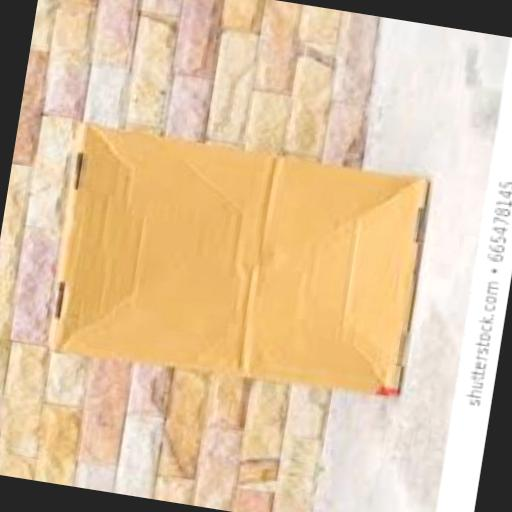cardboard: (38, 123, 432, 408)
